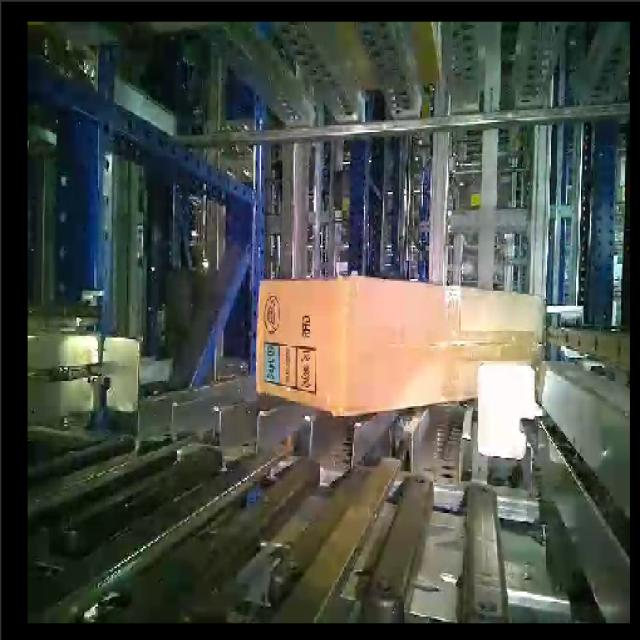box: (344, 276, 548, 425)
